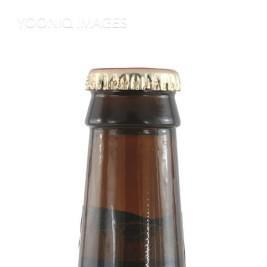beer: (74, 67, 189, 267)
